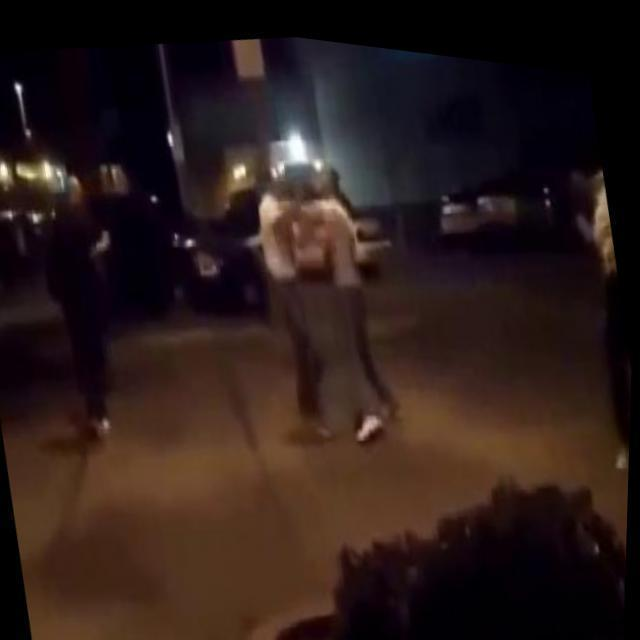fight: (247, 136, 408, 448)
